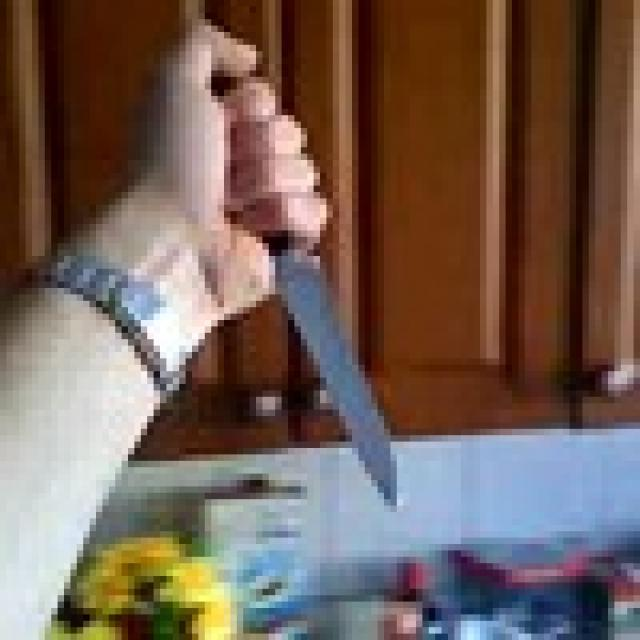Knife: (205, 70, 397, 506)
